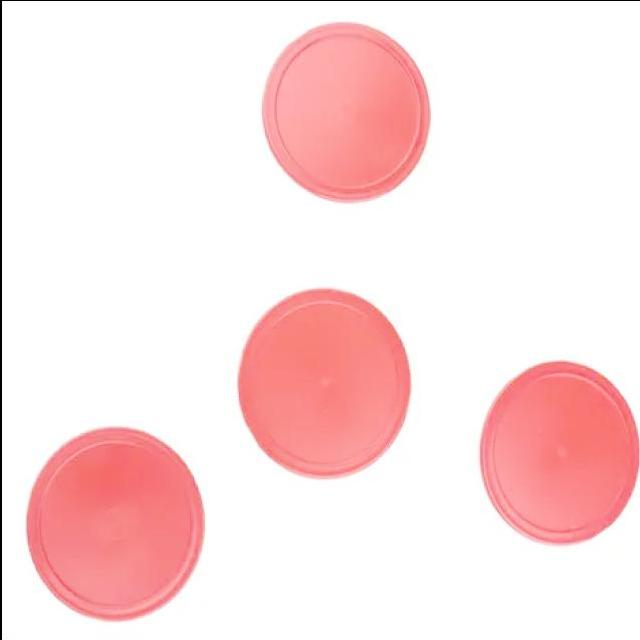chip: (24, 426, 204, 622), (236, 285, 410, 479), (260, 18, 429, 204), (479, 362, 637, 544)
